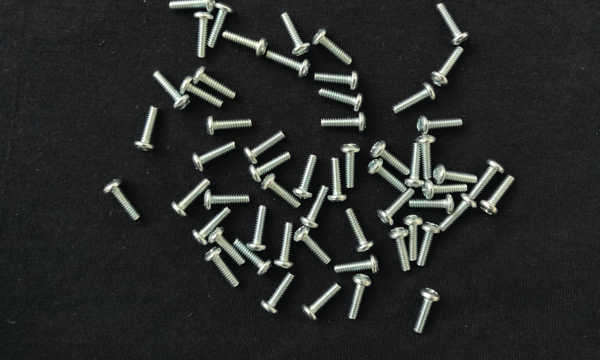shortscrew: (103, 179, 140, 223), (170, 179, 211, 218), (192, 207, 231, 247), (392, 82, 436, 117), (153, 70, 190, 111), (301, 284, 342, 321), (204, 247, 240, 289), (294, 227, 332, 266), (313, 28, 353, 65), (261, 273, 297, 314), (437, 3, 470, 47), (207, 228, 245, 266), (439, 194, 477, 232), (378, 187, 415, 226), (233, 240, 273, 276), (262, 174, 302, 210), (481, 175, 516, 216), (249, 153, 293, 185), (243, 131, 284, 165), (370, 141, 411, 175), (431, 46, 464, 88), (180, 76, 223, 108), (192, 142, 236, 173), (299, 185, 330, 229), (194, 68, 237, 99), (281, 12, 311, 56), (346, 208, 375, 253), (368, 158, 406, 192), (206, 2, 234, 48), (265, 50, 311, 78), (471, 159, 504, 198), (414, 288, 441, 334), (222, 30, 269, 56), (292, 153, 318, 200), (387, 227, 412, 273), (417, 222, 442, 267), (134, 106, 158, 152), (348, 275, 373, 319), (318, 88, 363, 112), (409, 193, 455, 215), (246, 205, 267, 252), (206, 114, 252, 135), (204, 190, 250, 211), (327, 159, 348, 205), (274, 221, 294, 269), (404, 214, 424, 262), (335, 255, 380, 276), (321, 114, 368, 134), (416, 116, 463, 136), (432, 164, 478, 184), (195, 10, 214, 58), (405, 143, 424, 190), (417, 135, 436, 181), (422, 181, 468, 200), (341, 144, 360, 189), (314, 72, 360, 90), (170, 0, 216, 13)
